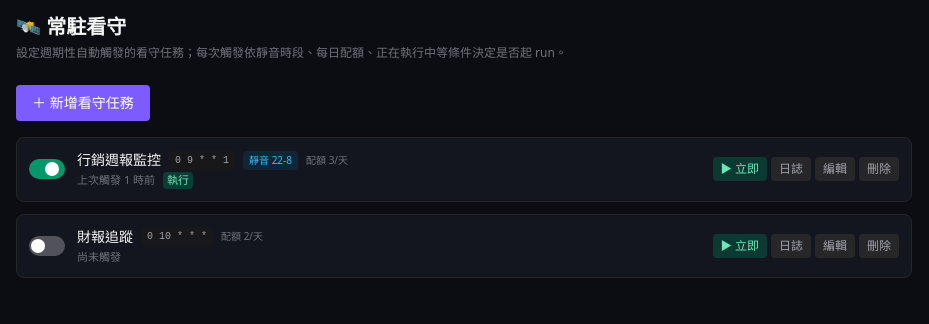
Test: WatchtowerPanel — 立即執行 › run-now 回傳 decision=act 後顯示執行結果
Expected: the text "行銷週報監控" is shown, top-left (77, 150), bottom-right (161, 170)
Click the button "▶ 立即" in the row of "22-8" at (740, 169), box top-left (713, 157), bottom-right (767, 181)
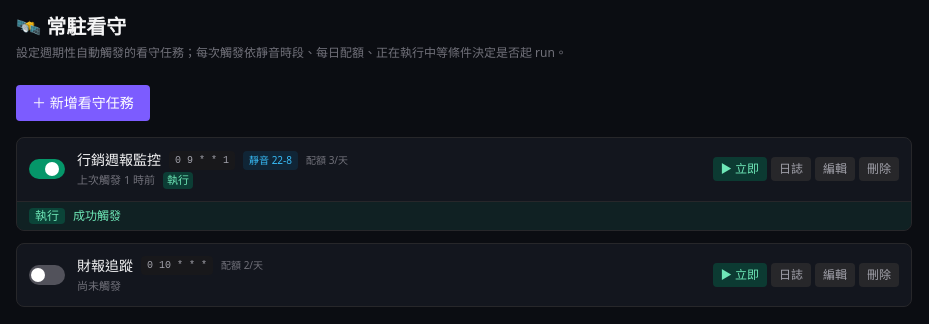
Expected: the text "執行 成功觸發" is shown, top-left (17, 200), bottom-right (911, 230)
